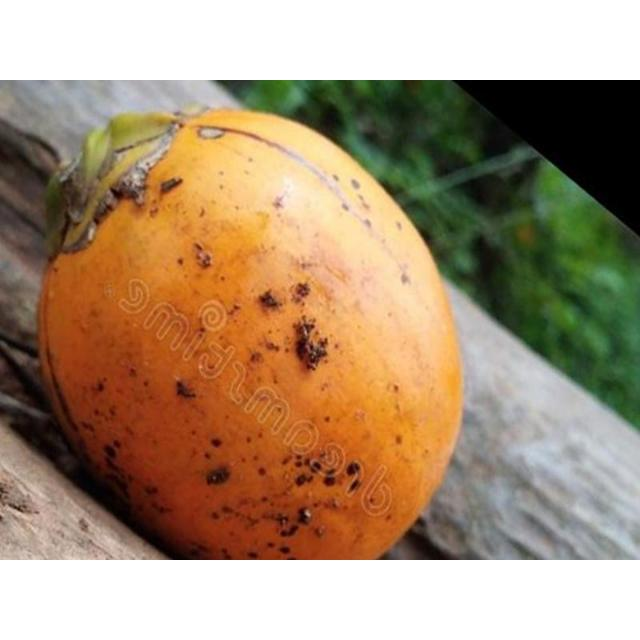good: (31, 105, 464, 559)
